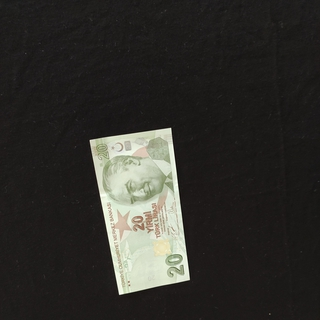20TLFront: (88, 127, 190, 294)
